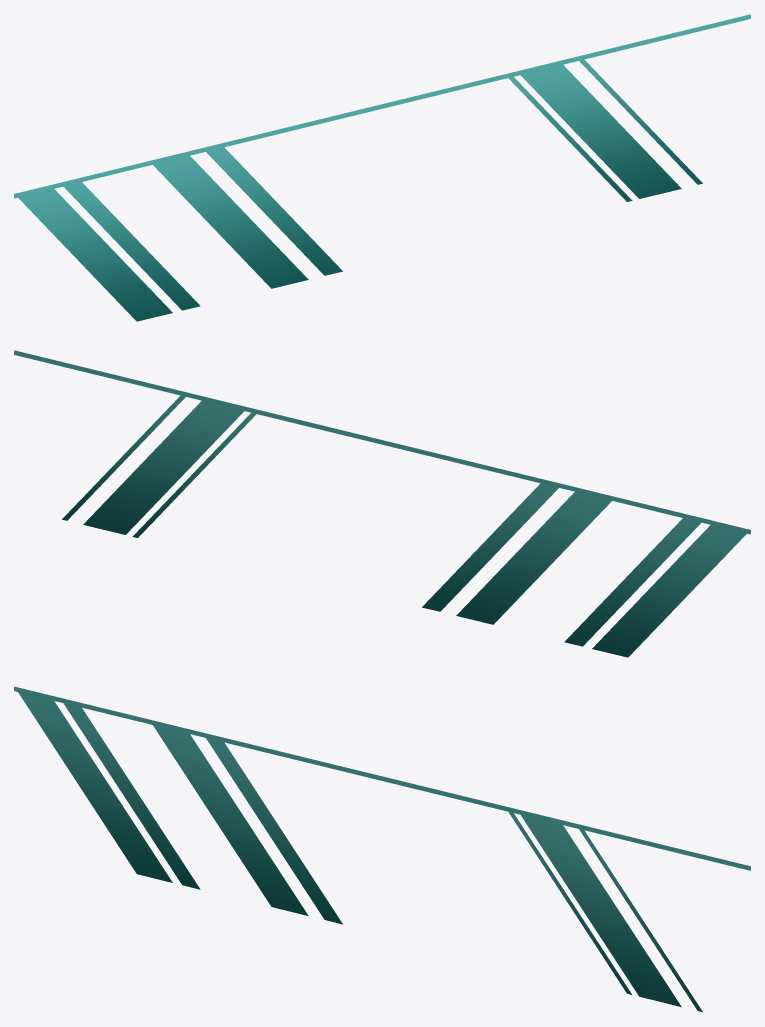
File: water_caustics.FBX
The picture shows the model from 3 angles, top to bottom: view 1: azimuth 30°, elevation 25°; view 2: azimuth 150°, elevation 25°; view 3: azimuth 330°, elevation 25°; orthographic projection.
Parts seen in each view (by area): view 1: caustics; view 2: caustics; view 3: caustics.
Boxes of the visible parts, x1,y1,x2,y2 form: caustics: (14,14,750,321); caustics: (14,350,750,657); caustics: (14,686,750,1012).
Bounding box in the file's own units: 739 × 151 × 0.
Materials: 1 (1 with a texture image).
